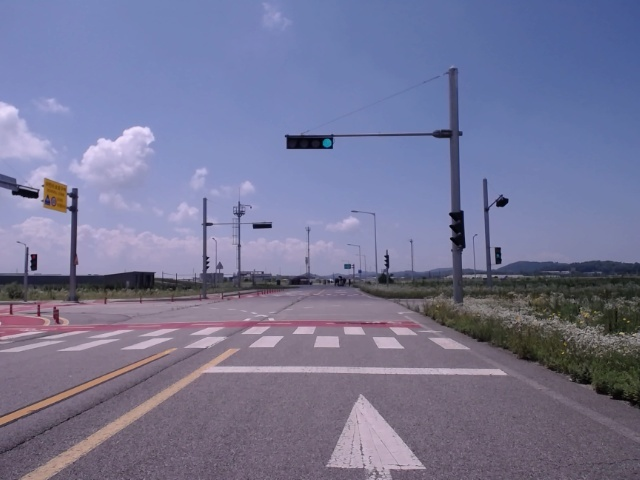all_green_4: (284, 136, 335, 148)
